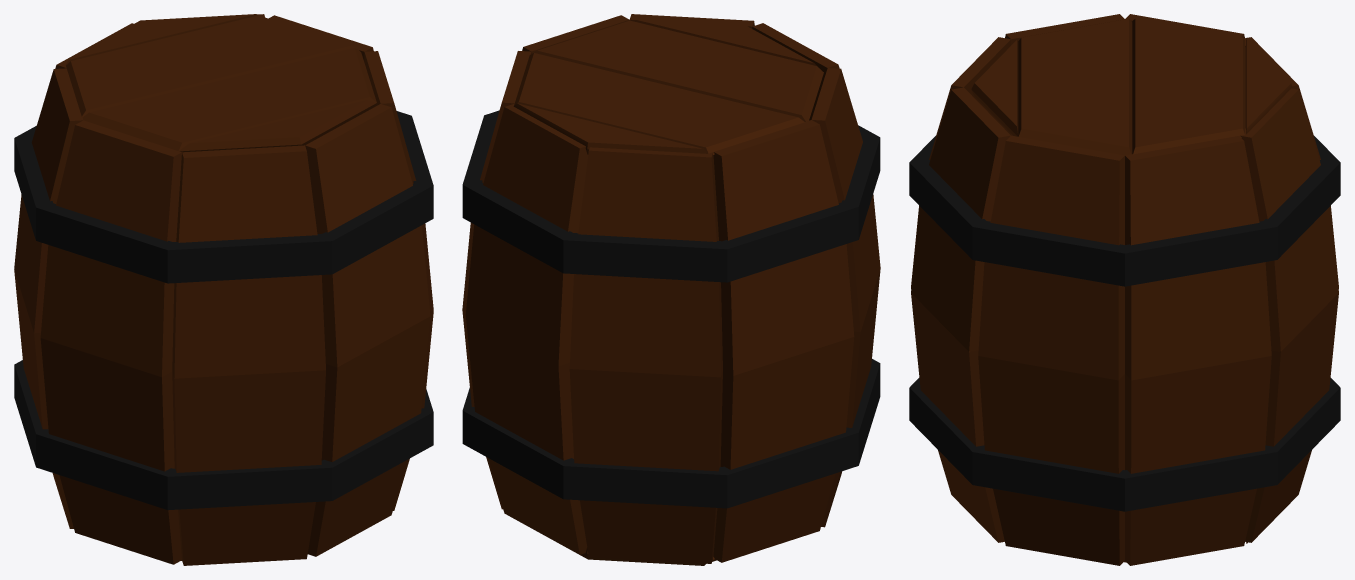
File: Barrel.fbx
The picture shows the model from 3 angles, left to right: view 1: azimuth 30°, elevation 25°; view 2: azimuth 150°, elevation 25°; view 3: azimuth 270°, elevation 25°; orthographic projection.
Visible parts, largest first — view 1: Barrel, Lid; view 2: Barrel, Lid; view 3: Barrel, Lid.
Boxes of the visible parts, left/top/right/bottom form: Barrel: left=14, top=14, right=433, bottom=565; Lid: left=65, top=14, right=376, bottom=152; Barrel: left=462, top=14, right=880, bottom=565; Lid: left=513, top=20, right=823, bottom=155; Barrel: left=909, top=14, right=1340, bottom=565; Lid: left=971, top=18, right=1292, bottom=155.
Bounding box in the file's own units: 49.65 × 52.82 × 49.65.
